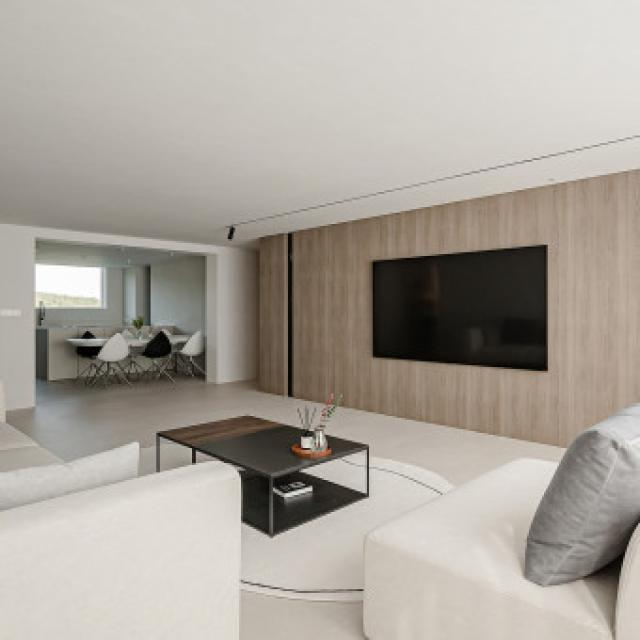Chair: (94, 329, 131, 389), (179, 328, 211, 379), (142, 328, 170, 381)
Sofa: (377, 416, 640, 639), (3, 411, 238, 640)
Table: (165, 411, 372, 521)
tv: (369, 246, 555, 372)
